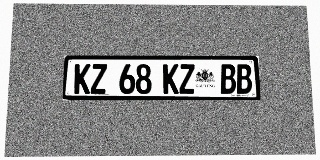6: (119, 64, 135, 94)
8: (136, 64, 152, 94)
B: (220, 64, 236, 94), (236, 64, 252, 94)
K: (74, 64, 91, 94), (163, 64, 179, 94)
Z: (90, 64, 107, 94), (179, 64, 195, 94)
